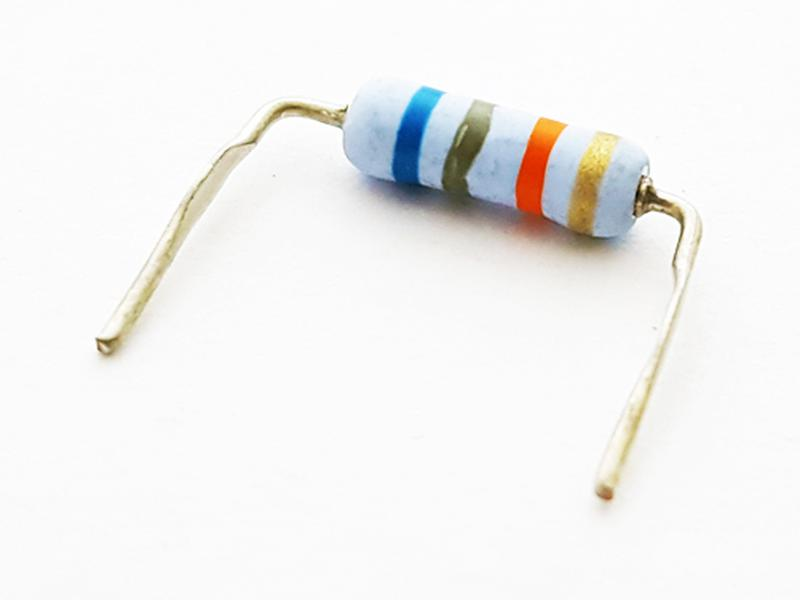resistor: (276, 48, 716, 314)
